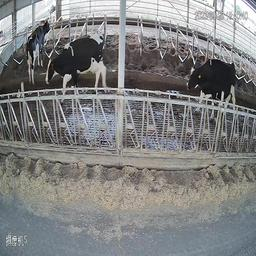cow: (36, 39, 98, 95), (177, 54, 232, 111), (26, 18, 53, 86)
